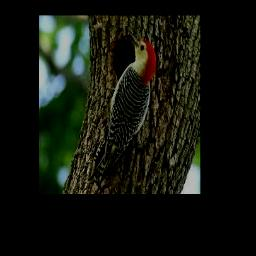Woodpecker: (88, 33, 156, 189)
